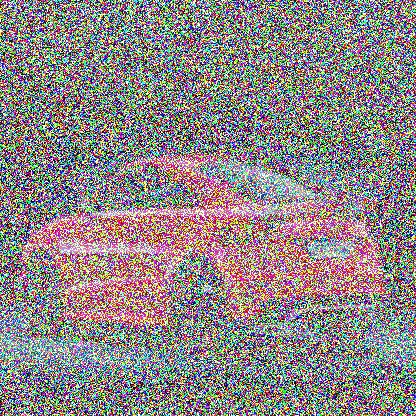Vehicle: (14, 150, 395, 360)
